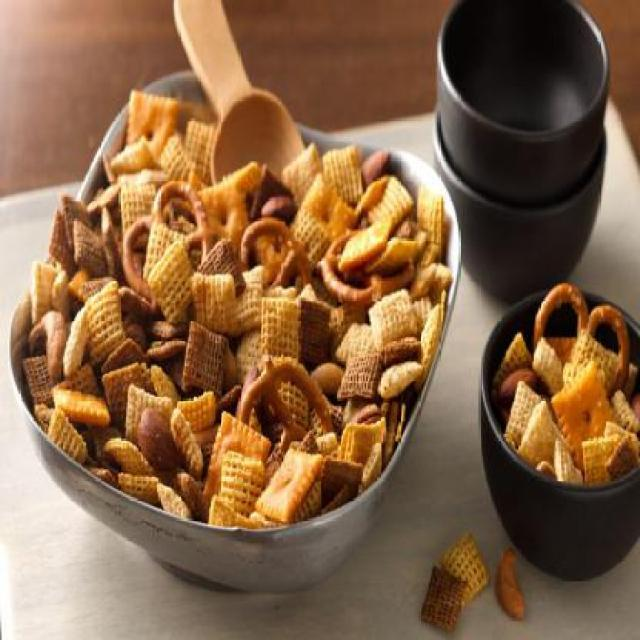Salatini packaged: (46, 118, 429, 540), (501, 290, 640, 507)
